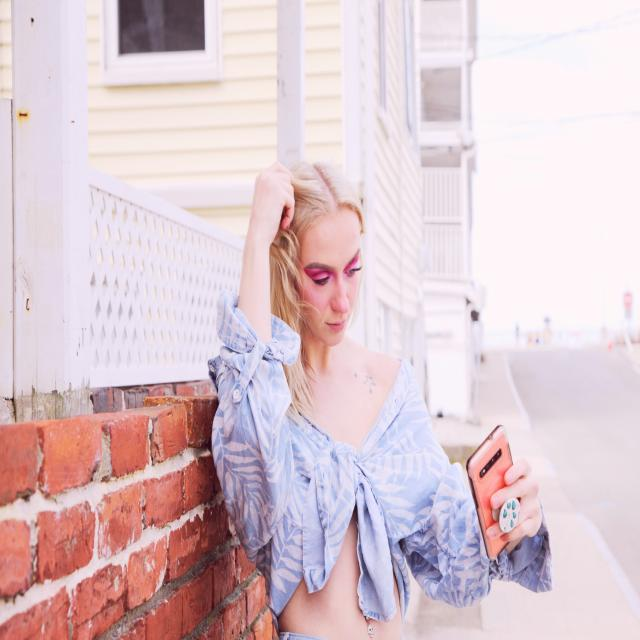adult: (214, 158, 556, 640)
